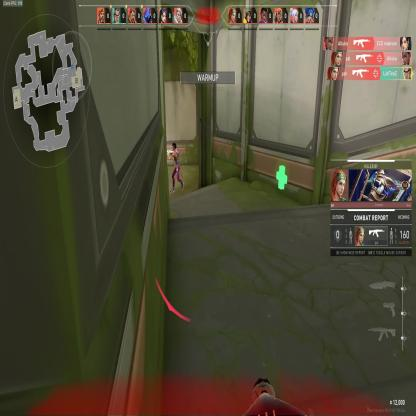enemy: (166, 141, 184, 193)
